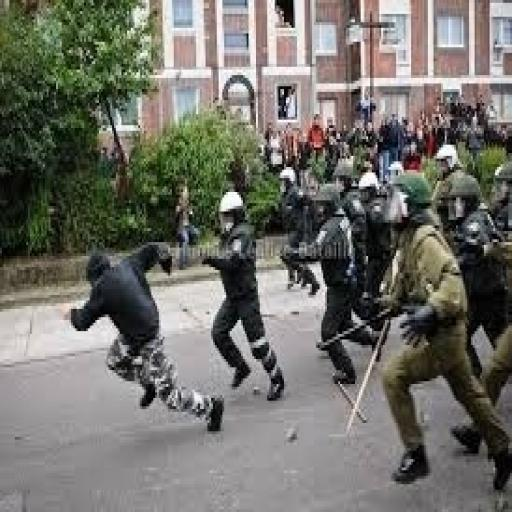running: (368, 167, 510, 495), (62, 236, 226, 437), (198, 186, 288, 406)
